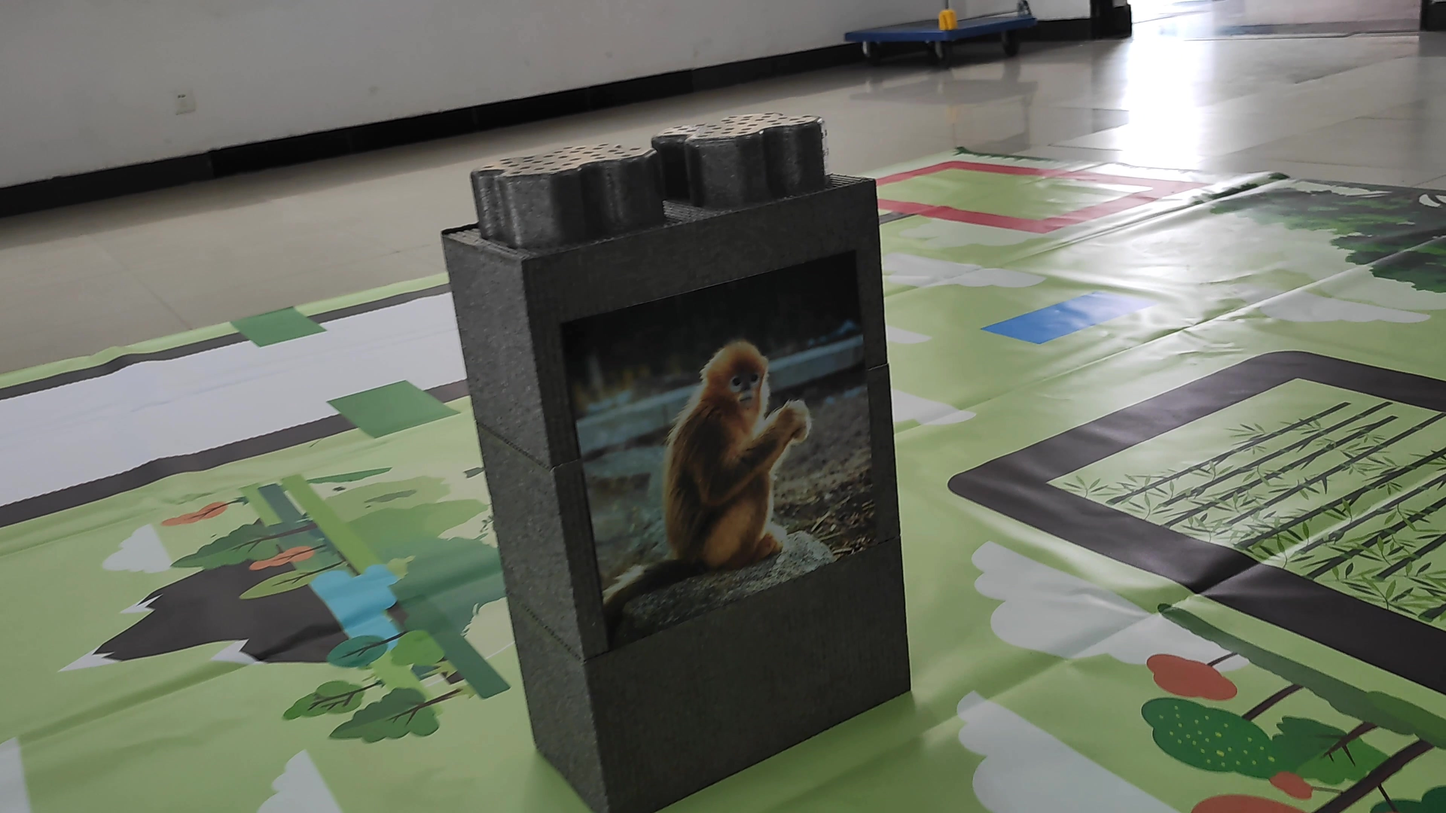monkey: (596, 322, 850, 626)
